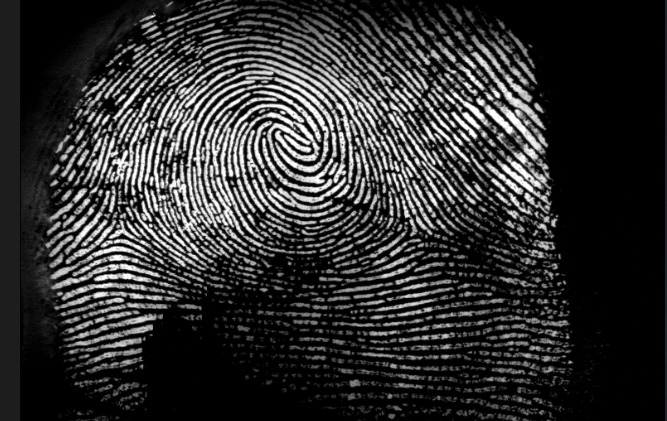deltas: (96, 194, 156, 262), (387, 205, 436, 252)
nucleo: (264, 110, 320, 166)
